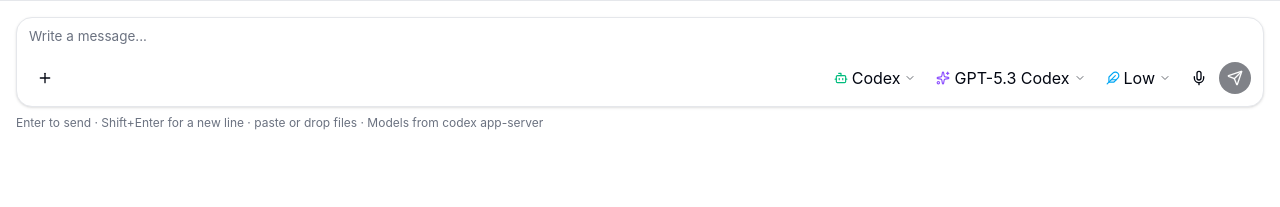
Scenario: AssistantComposer › completes the slash command on Tab from the palette
In the text box with placeholder "Write a message...": (640, 40) x1=17 y1=18 x2=1263 y2=62, type "/b"
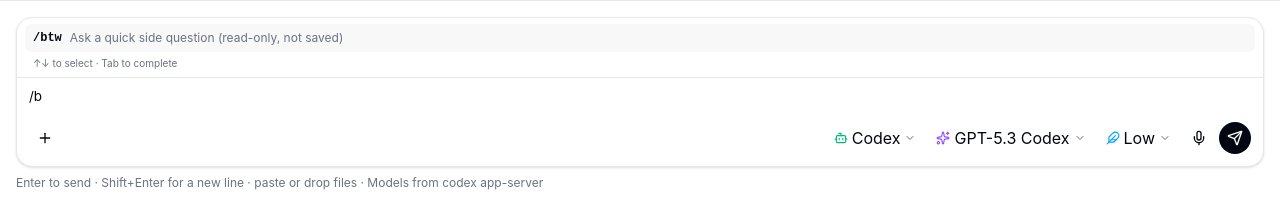
Press Tab in the text box with placeholder "Write a message...", box x1=17 y1=78 x2=1263 y2=122
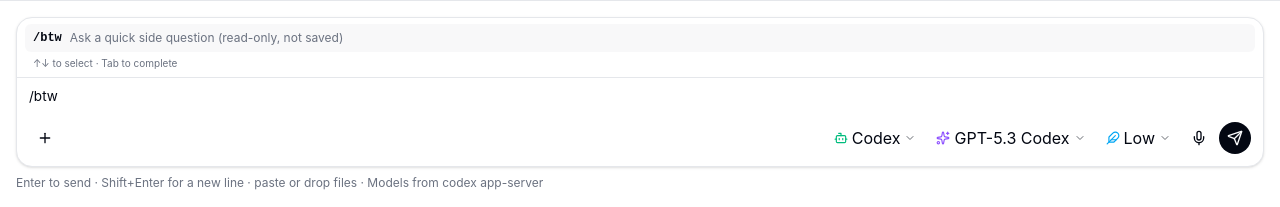
Expected: the text box with placeholder "Write a message..." holds "/btw ", x1=17 y1=78 x2=1263 y2=122
